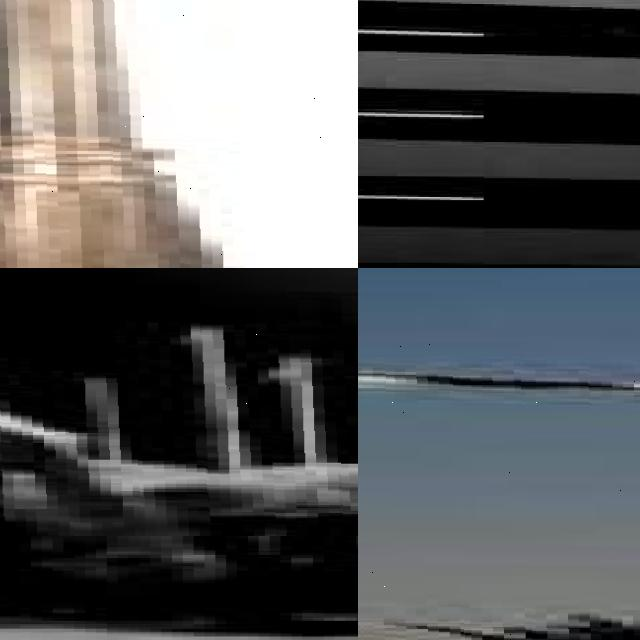street light: (0, 0, 358, 268), (0, 268, 358, 536), (358, 344, 640, 640)
